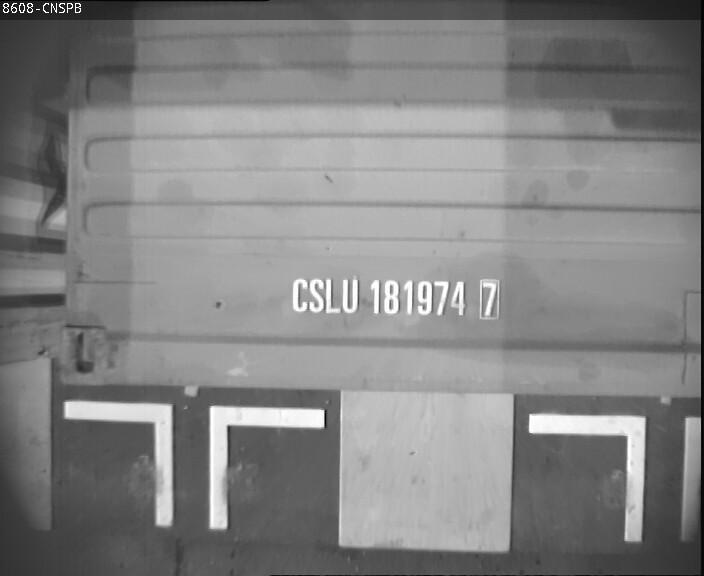groundmarker_1: (62, 400, 322, 528), (527, 415, 704, 542)
